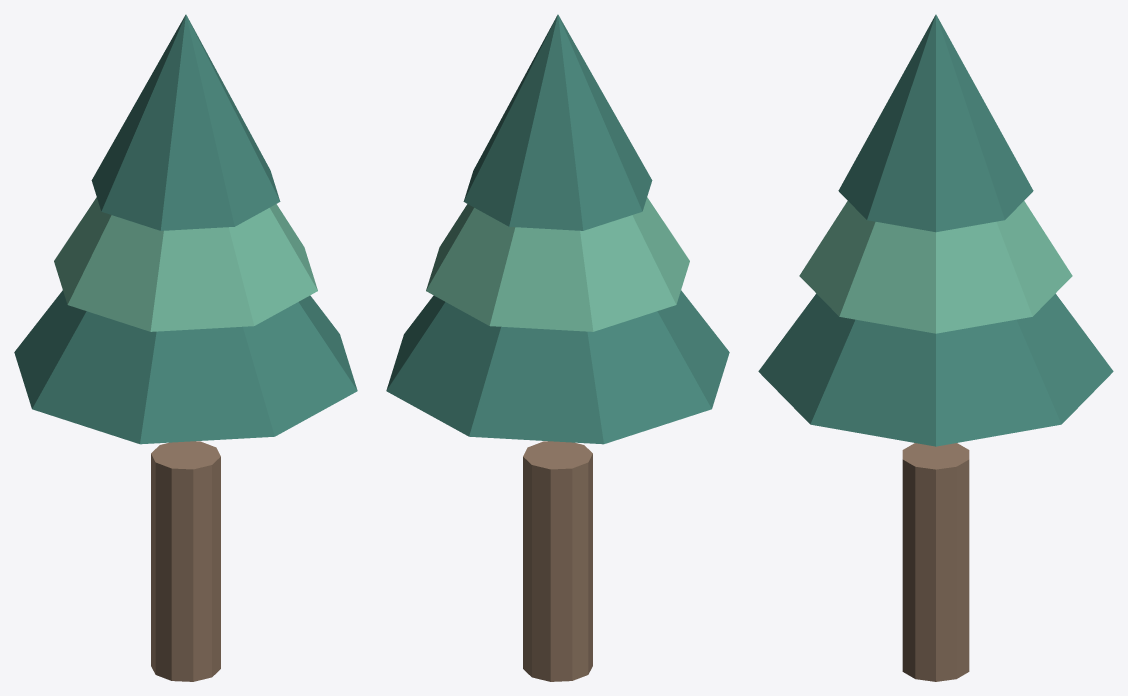
Rendered from arbol_pino.glb.
3 renders of one model, left to right at view 1: azimuth 30°, elevation 25°; view 2: azimuth 150°, elevation 25°; view 3: azimuth 270°, elevation 25°, orthographic.
Parts seen in each view (by area): view 1: part_001, part_002, part_003, part_000; view 2: part_001, part_002, part_003, part_000; view 3: part_001, part_002, part_003, part_000.
Boxes of the visible parts, bbox=[...] form: part_001: bbox=[14, 290, 357, 444]; part_002: bbox=[54, 197, 317, 331]; part_003: bbox=[91, 14, 280, 230]; part_000: bbox=[151, 441, 220, 681]; part_001: bbox=[386, 290, 729, 444]; part_002: bbox=[426, 197, 689, 331]; part_003: bbox=[463, 14, 652, 230]; part_000: bbox=[523, 441, 592, 681]; part_001: bbox=[758, 293, 1113, 446]; part_002: bbox=[799, 201, 1072, 333]; part_003: bbox=[838, 14, 1033, 232]; part_000: bbox=[902, 443, 969, 681].
Size of the model in its own units: 1.82 by 3.69 by 1.82.
